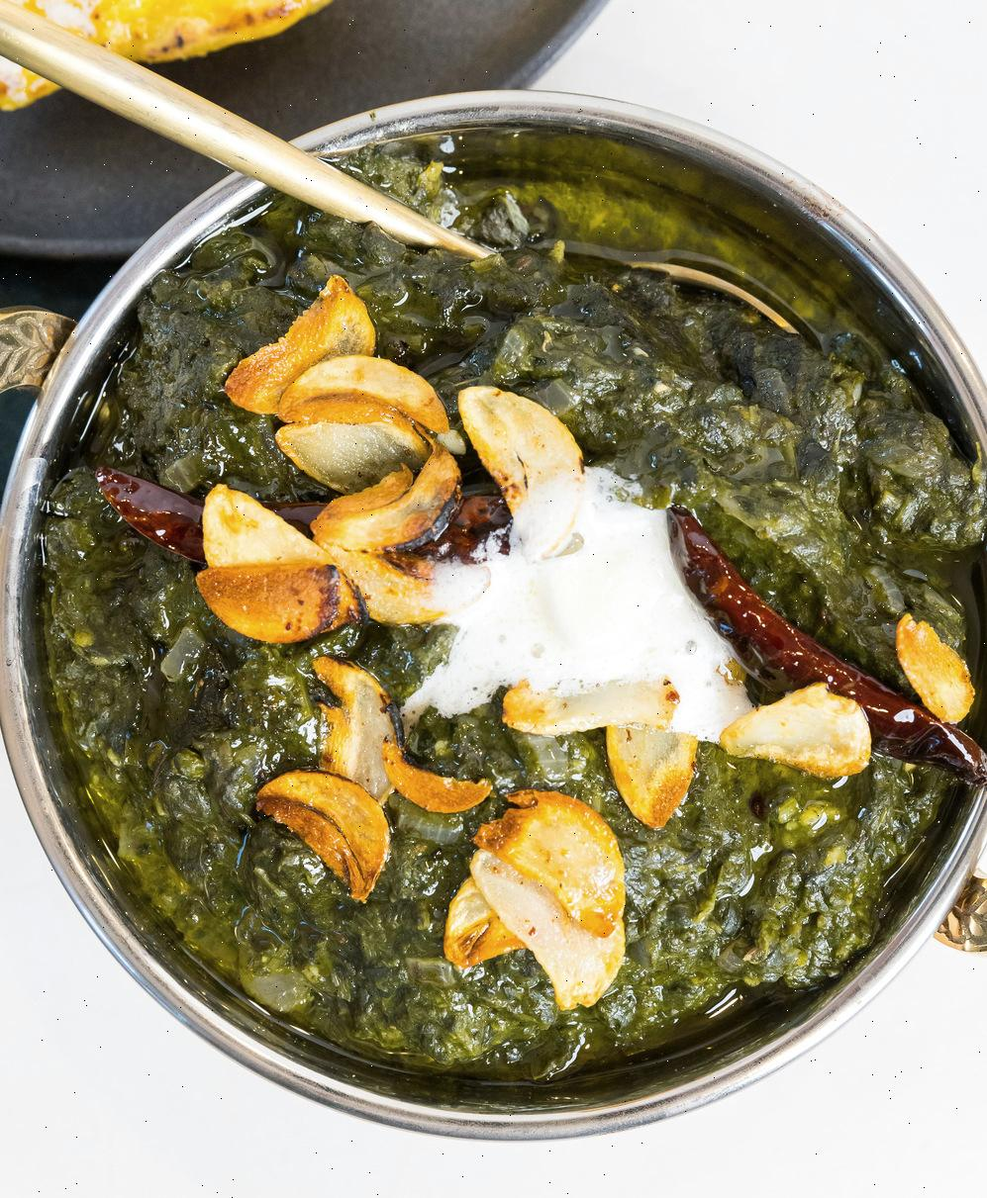saag: (37, 216, 980, 1090)
